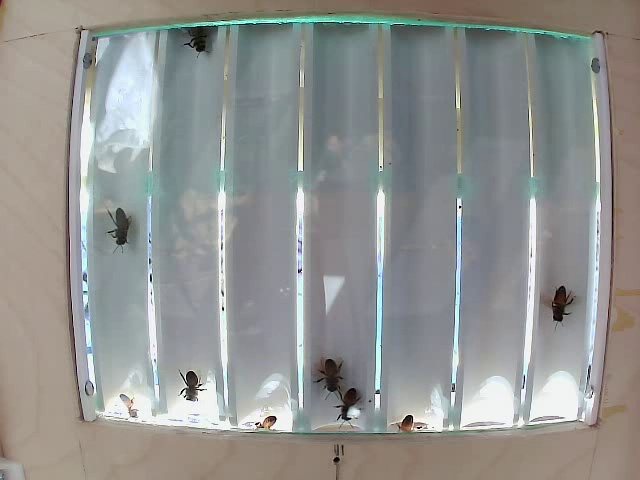bee: (94, 196, 161, 252), (544, 255, 572, 330), (307, 352, 356, 391), (175, 372, 210, 411)
